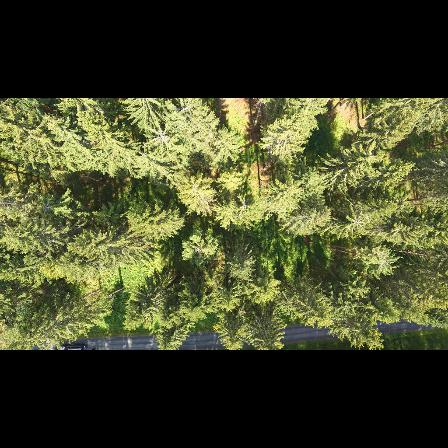Sick: (365, 248, 398, 278), (228, 193, 259, 221), (145, 123, 175, 150), (344, 209, 373, 234)
